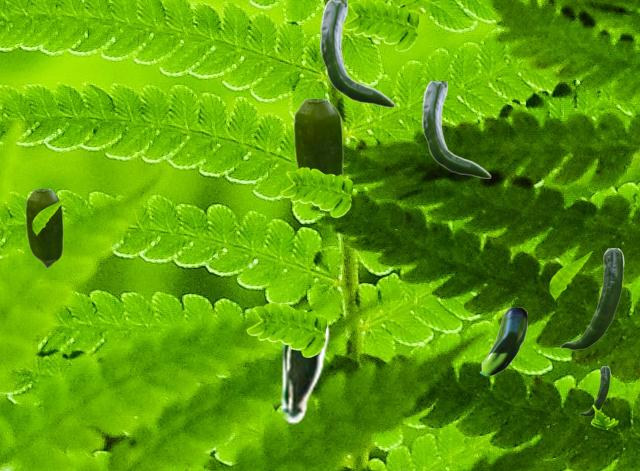green_chili: (320, 0, 394, 106), (422, 81, 490, 177), (560, 248, 623, 349), (277, 313, 329, 423), (293, 99, 342, 173), (479, 307, 526, 375), (25, 189, 62, 267), (579, 366, 609, 415)
